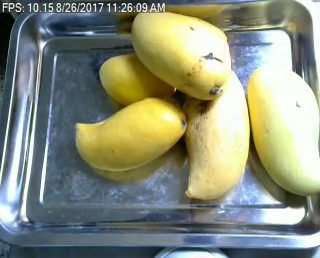Mango: (178, 67, 250, 200), (247, 65, 320, 195), (131, 9, 228, 98), (74, 97, 187, 171), (100, 53, 173, 102)
